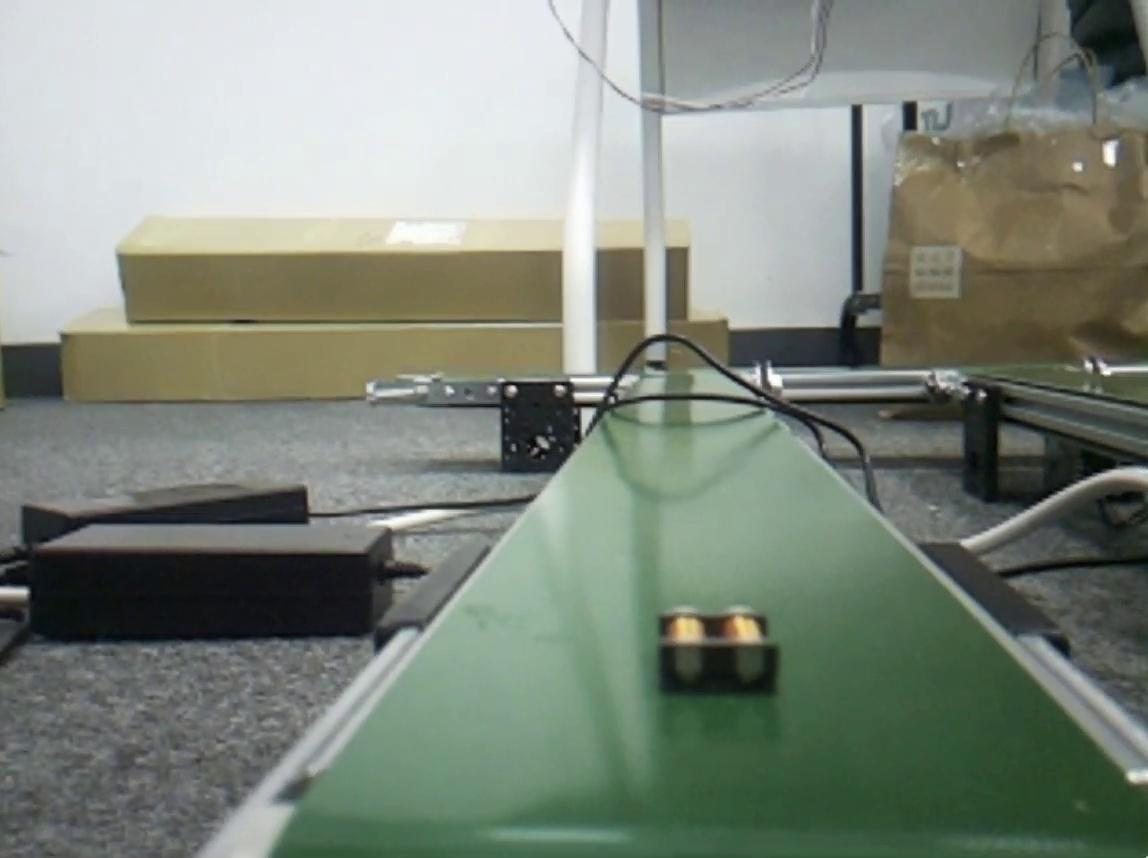inductor: (667, 608, 781, 688)
